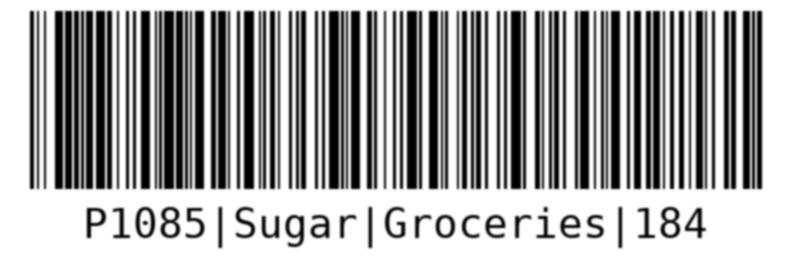milk: (22, 6, 770, 253)
